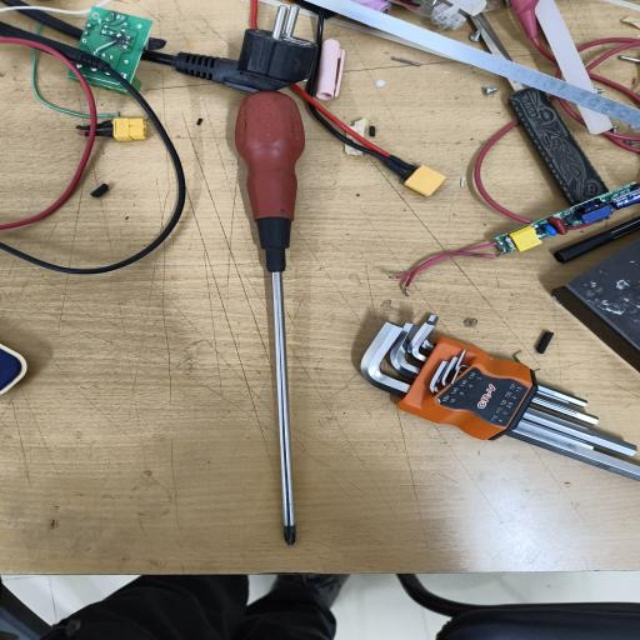screwdriver: (233, 90, 310, 548)
